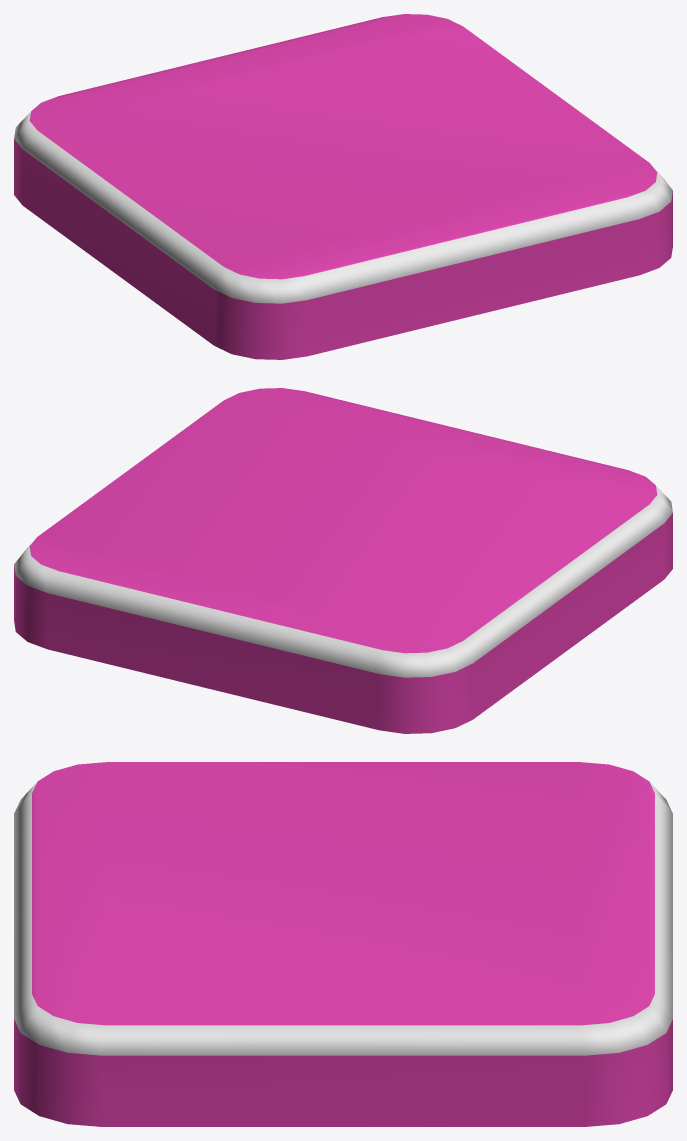
The picture shows the model from 3 angles, top to bottom: view 1: azimuth 30°, elevation 25°; view 2: azimuth 150°, elevation 25°; view 3: azimuth 270°, elevation 25°; orthographic projection. The views are drawn at different scales.
Parts seen in each view (by area): view 1: Cube; view 2: Cube; view 3: Cube.
Boxes of the visible parts, box(x1,y1,x2,y2) form: Cube: box(14, 14, 672, 359); Cube: box(14, 388, 672, 733); Cube: box(14, 762, 672, 1126).
Bounding box in the file's own units: 2 × 0.3145 × 2.
